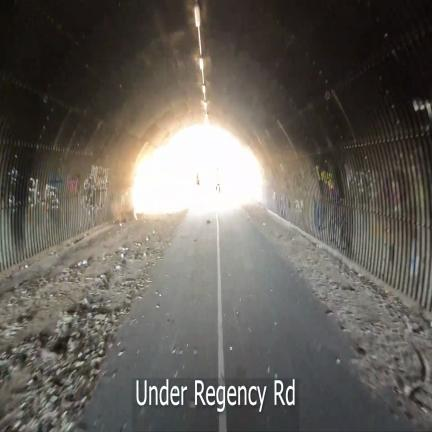Bike_Lane: (81, 209, 410, 432)
